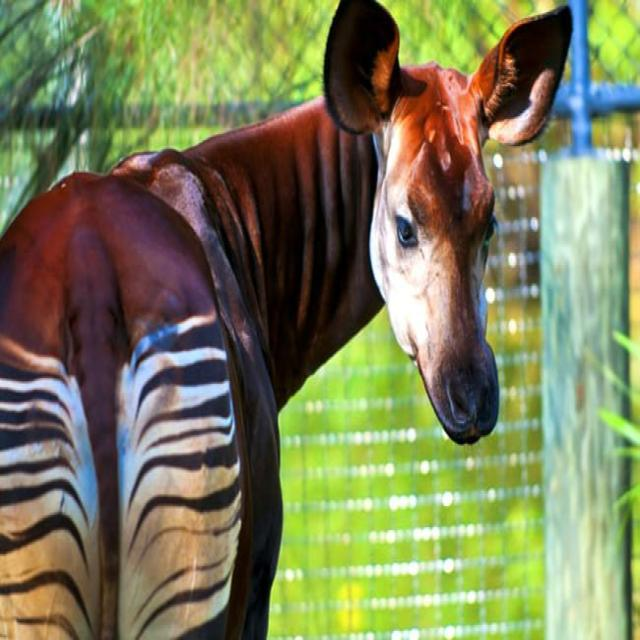Okapi: (0, 0, 579, 640)
